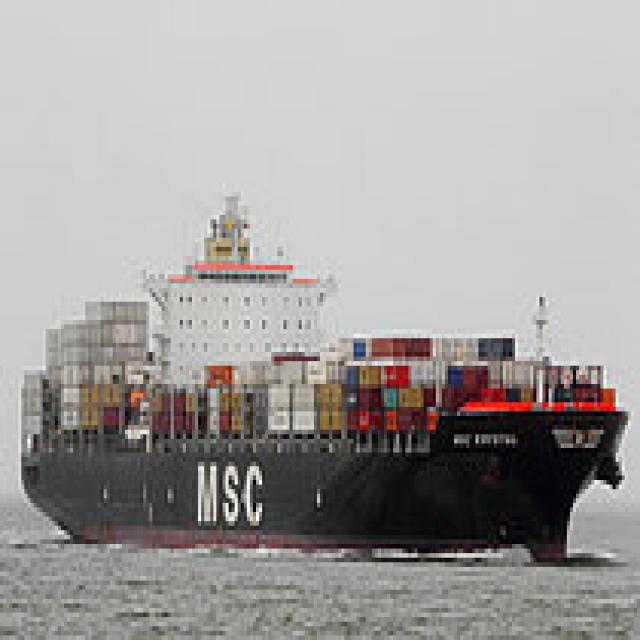Ship: (16, 180, 632, 573)
